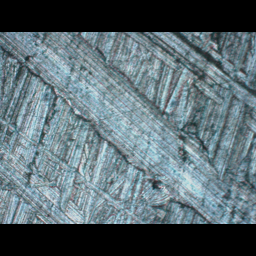d: (0, 32, 254, 223), (103, 31, 255, 135)
